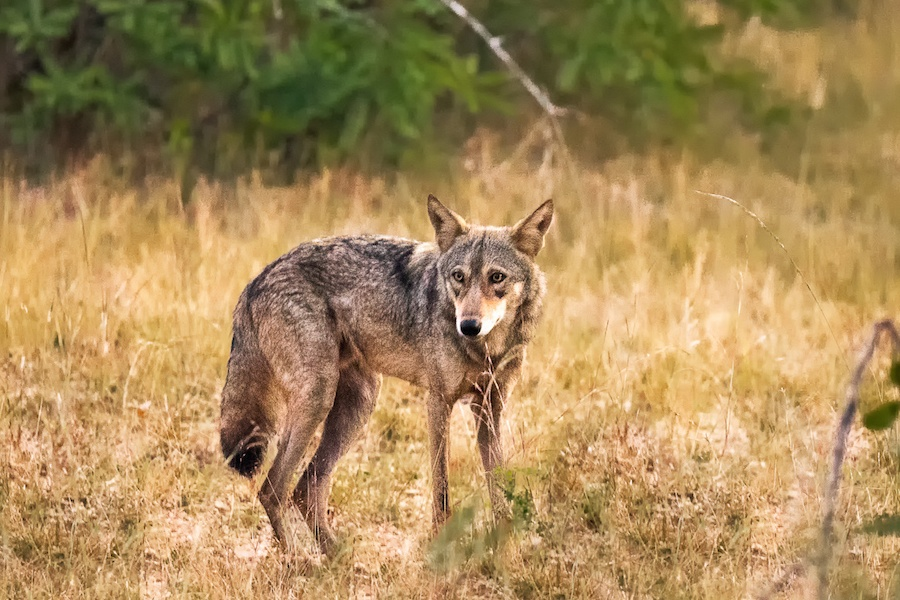wolf: (219, 192, 554, 530)
